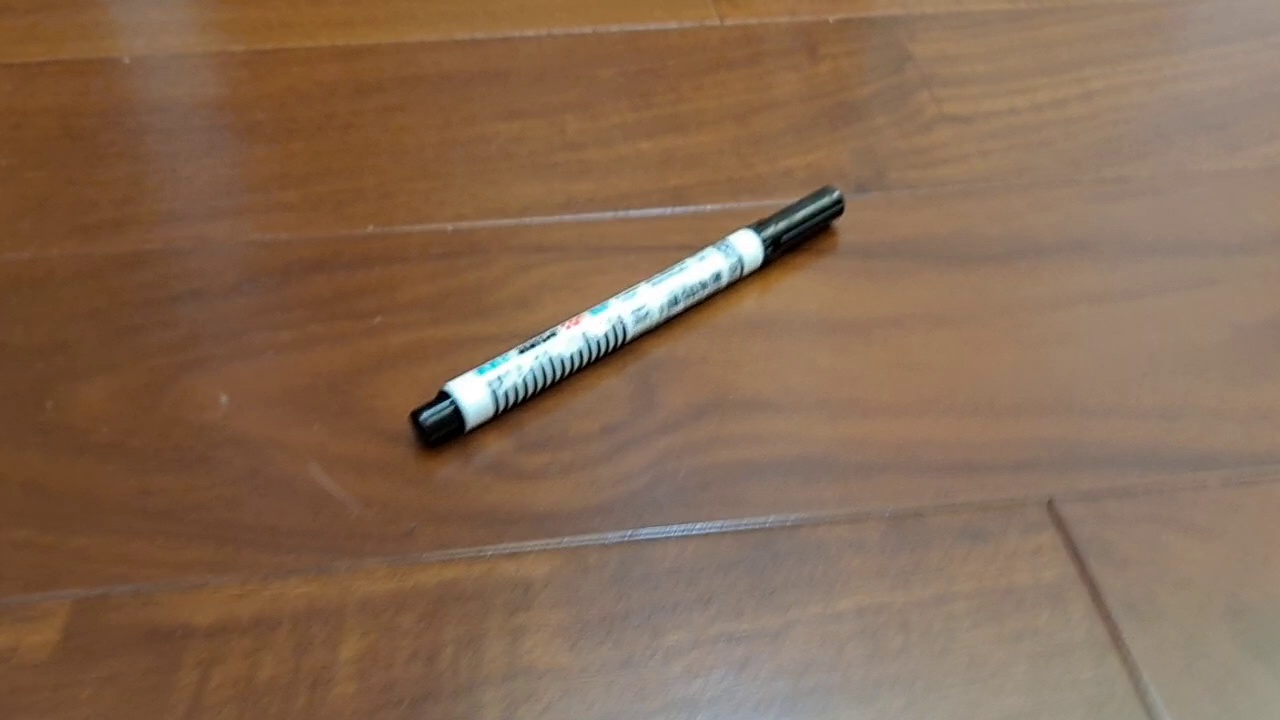pen: (408, 183, 846, 451)
